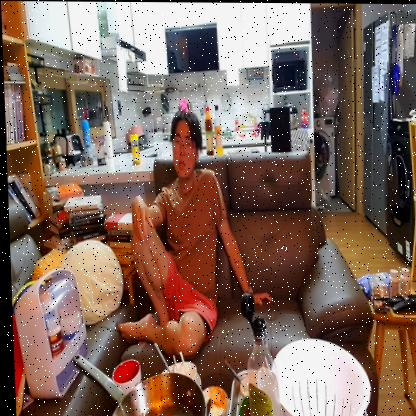streamer: (107, 108, 272, 355)
